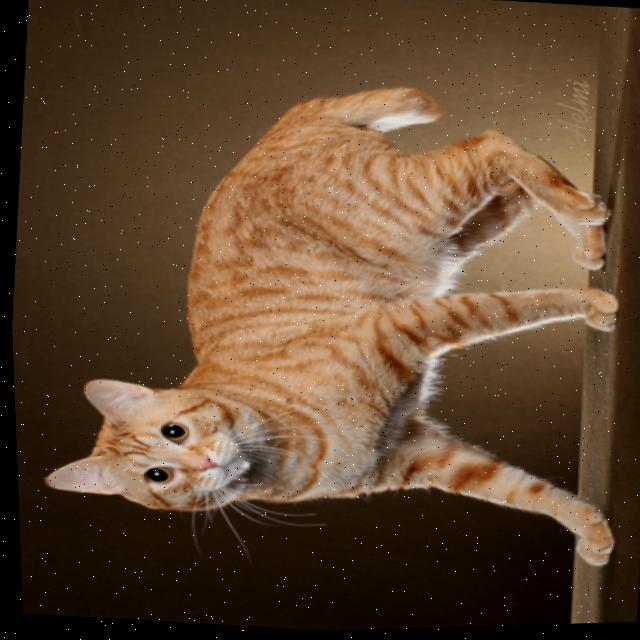American Bobtail: (16, 50, 640, 588)
